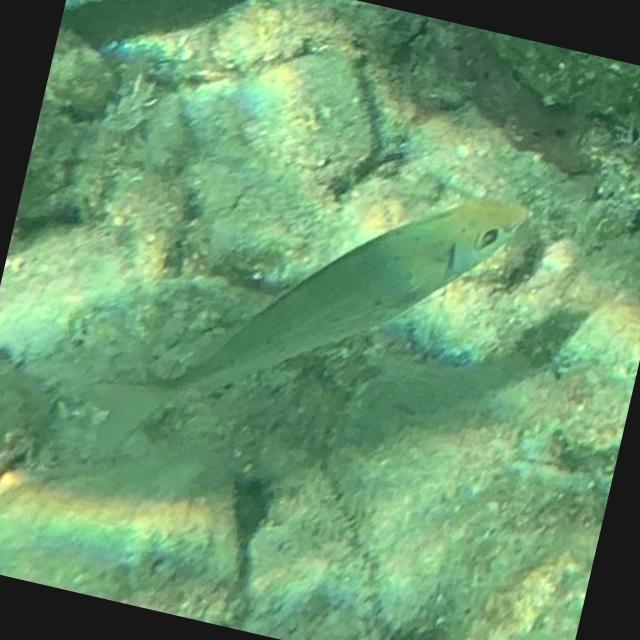Sokar Baligi: (50, 90, 551, 560)
